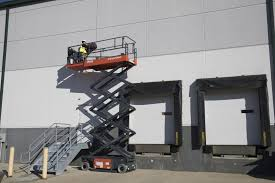Scissor Lift: (65, 35, 139, 174)
